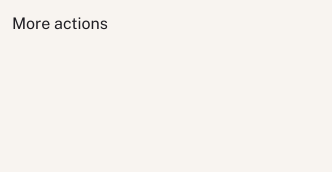
Scenario: DropdownMenu touch opening › opens on a touch tap without movement
The width and height of the screenshot is (332, 172).
Press the mouse on the button "More actions" at (60, 24), box [12,12,108,36]
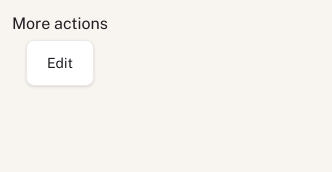
Check: the menu is shown, box [26,40,94,86]
Check: the menu item "Edit" is shown, box [47,55,73,71]
